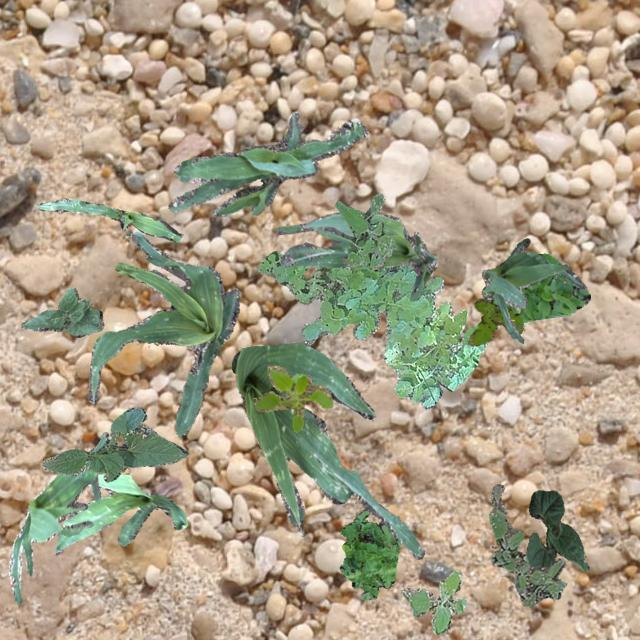crop: (231, 342, 424, 558), (86, 230, 238, 436), (168, 110, 368, 216), (8, 432, 108, 602), (274, 210, 436, 300), (41, 406, 188, 481), (54, 472, 186, 554), (480, 238, 584, 342), (34, 198, 180, 240), (526, 490, 588, 570), (21, 286, 102, 336)
weed: (256, 250, 486, 408), (488, 482, 564, 606), (488, 252, 590, 322), (338, 508, 399, 598), (252, 364, 332, 432), (334, 192, 394, 270), (402, 568, 466, 634), (468, 298, 522, 344)
